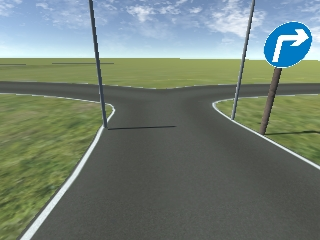right: (263, 22, 312, 67)
